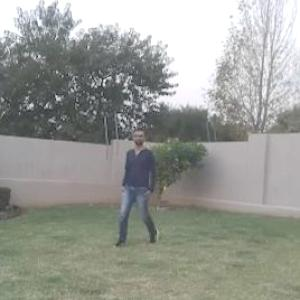follow: (122, 124, 156, 240)
